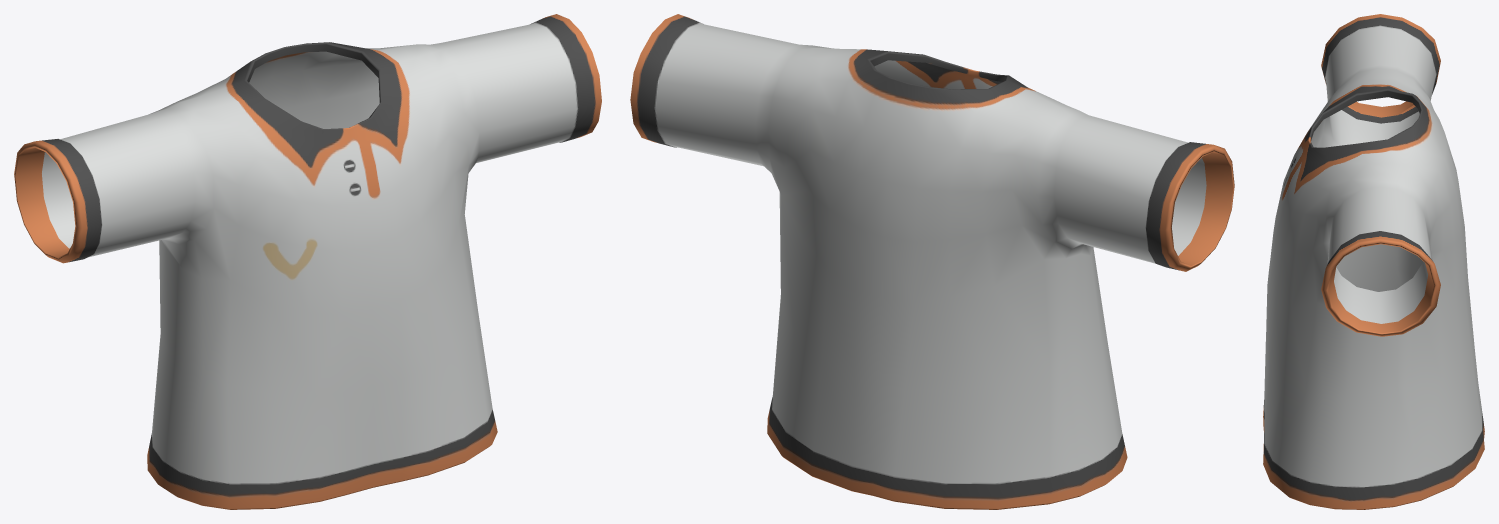
Rendered from upper cloth 04.glb.
The picture shows the model from 3 angles, left to right: view 1: azimuth 30°, elevation 25°; view 2: azimuth 150°, elevation 25°; view 3: azimuth 270°, elevation 25°; orthographic projection. The views are drawn at different scales.
Visible parts, largest first — view 1: upper_cloth_04; view 2: upper_cloth_04; view 3: upper_cloth_04.
Boxes of the visible parts, x1=… form: upper_cloth_04: x1=14, y1=14, x2=601, y2=509; upper_cloth_04: x1=630, y1=14, x2=1234, y2=509; upper_cloth_04: x1=1263, y1=14, x2=1484, y2=509.
Bounding box in the file's own units: 0.00936 × 0.00642 × 0.00388.
1 material, 1 textured.
